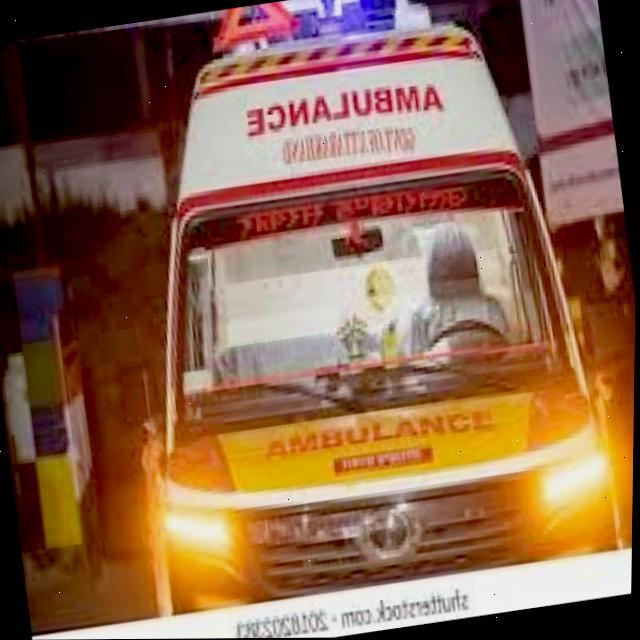emergency: (94, 0, 632, 618)
